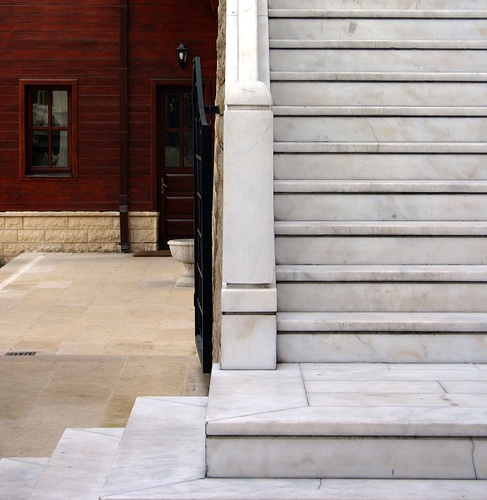stairs_up: (218, 9, 487, 480)
